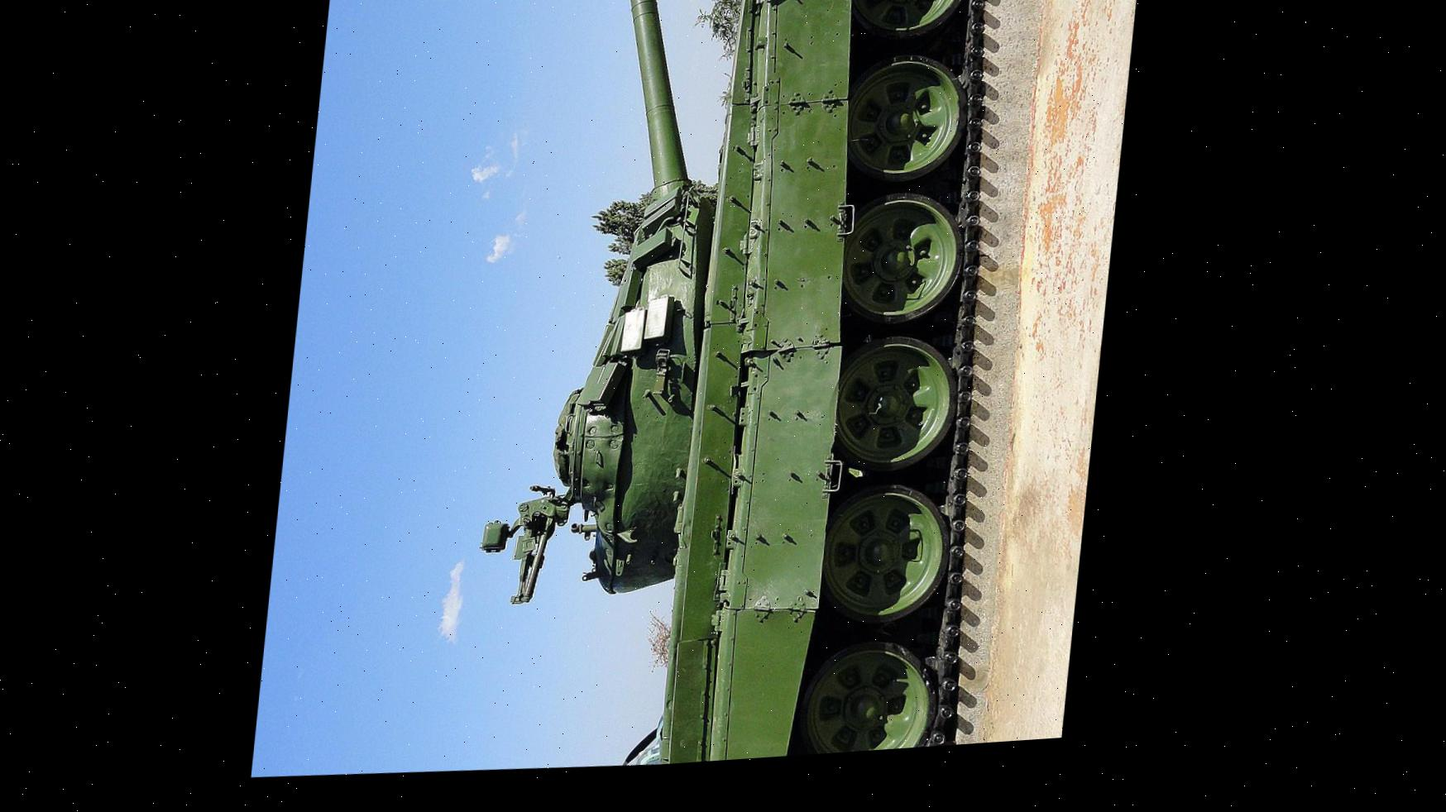tank: (457, 0, 1034, 778)
